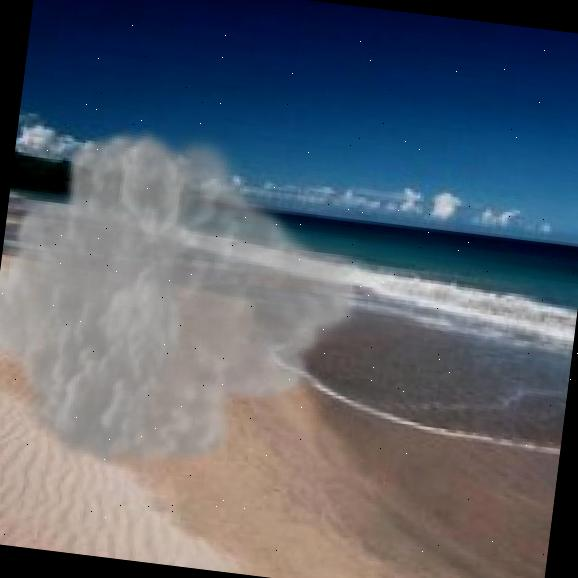smoke: (0, 106, 384, 503)
